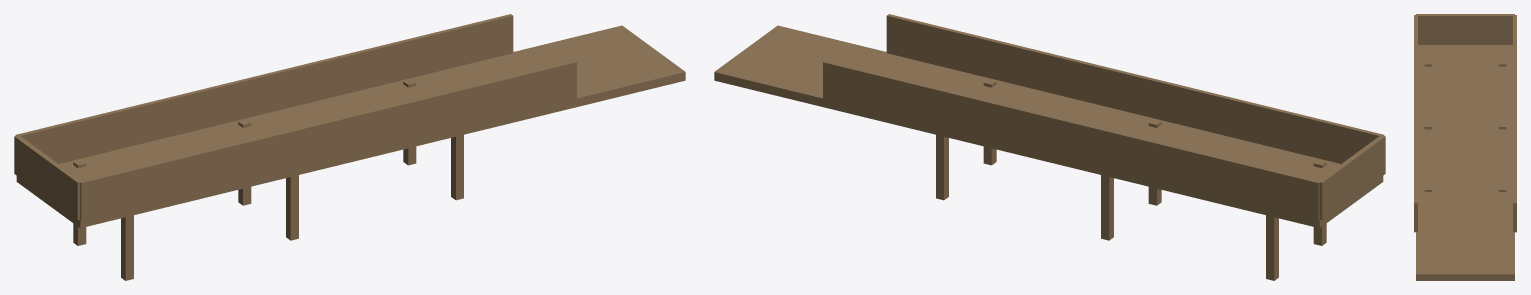
The model's file is town_pier.glb.
3 renders of one model, left to right at view 1: azimuth 30°, elevation 25°; view 2: azimuth 150°, elevation 25°; view 3: azimuth 270°, elevation 25°, orthographic. The views are drawn at different scales.
Visible parts, largest first — view 1: pier_rail_-22-col, pier_rail_-26-col, town_pier_deck-col, town_pier_landing-col, pier_seaward_guard-col, pier_pile_-64_-22.5, pier_pile_-70_-22.5, pier_pile_-58_-22.5; view 2: pier_rail_-26-col, pier_rail_-22-col, town_pier_deck-col, town_pier_landing-col, pier_seaward_guard-col, pier_pile_-64_-25.5, pier_pile_-70_-25.5, pier_pile_-58_-25.5; view 3: town_pier_deck-col, town_pier_landing-col, pier_seaward_guard-col, pier_rail_-22-col, pier_rail_-26-col.
Boxes of the visible parts, x1,y1,x2,y2 form: pier_rail_-22-col: (80, 60, 576, 220); pier_rail_-26-col: (15, 14, 513, 163); town_pier_deck-col: (16, 53, 575, 228); town_pier_landing-col: (513, 25, 685, 107); pier_seaward_guard-col: (14, 136, 81, 219); pier_pile_-64_-22.5: (286, 175, 298, 240); pier_pile_-70_-22.5: (121, 215, 133, 280); pier_pile_-58_-22.5: (451, 135, 463, 200); pier_rail_-26-col: (823, 60, 1319, 220); pier_rail_-22-col: (886, 14, 1384, 163); town_pier_deck-col: (824, 53, 1383, 228); town_pier_landing-col: (714, 25, 886, 107); pier_seaward_guard-col: (1318, 136, 1385, 219); pier_pile_-64_-25.5: (1101, 175, 1113, 240); pier_pile_-70_-25.5: (1266, 215, 1278, 280); pier_pile_-58_-25.5: (936, 135, 948, 200); town_pier_deck-col: (1418, 45, 1512, 232); town_pier_landing-col: (1416, 232, 1514, 280); pier_seaward_guard-col: (1416, 14, 1514, 44); pier_rail_-22-col: (1414, 15, 1417, 232); pier_rail_-26-col: (1513, 15, 1516, 232).
Bounding box in the file's own units: 22.09 × 4 × 4.15.
